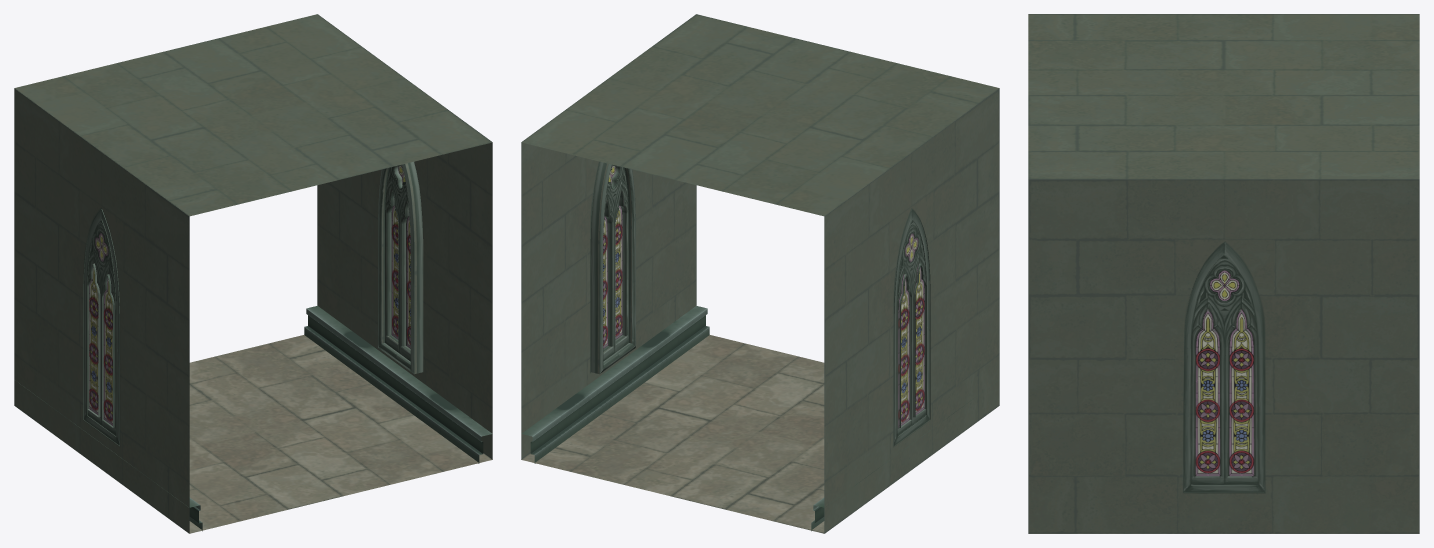
Rendered from field_hasiranashi.fbx.
3 renders of one model, left to right at view 1: azimuth 30°, elevation 25°; view 2: azimuth 150°, elevation 25°; view 3: azimuth 270°, elevation 25°, orthographic. The views are drawn at different scales.
Parts seen in each view (by area): view 1: pasted__Wall, pasted__pPlane2, pasted__pasted__Wall, pasted__pPlane3, pasted__pCube2; view 2: pasted__Wall, pasted__pPlane2, pasted__pasted__Wall, pasted__pPlane3, pasted__pCube2; view 3: pasted__pasted__Wall, pasted__pPlane2.
Boxes of the visible parts, x1,y1,x2,y2 form: pasted__Wall: (14,88,189,533); pasted__pPlane2: (14,14,492,216); pasted__pasted__Wall: (317,14,492,459); pasted__pPlane3: (15,335,492,533); pasted__pCube2: (15,306,492,531); pasted__Wall: (824,88,999,533); pasted__pPlane2: (521,14,999,216); pasted__pasted__Wall: (521,14,696,459); pasted__pPlane3: (521,335,998,533); pasted__pCube2: (521,306,998,531); pasted__pasted__Wall: (1028,179,1419,533); pasted__pPlane2: (1028,14,1419,179).
Bounding box in the file's own units: 1.01 × 1 × 1.
Materials: 4 (4 with a texture image).
